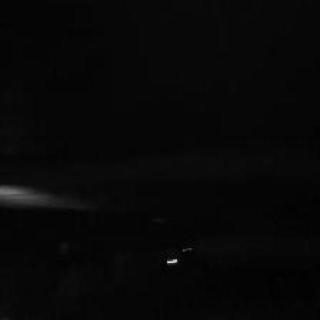other: (159, 256, 182, 272)
